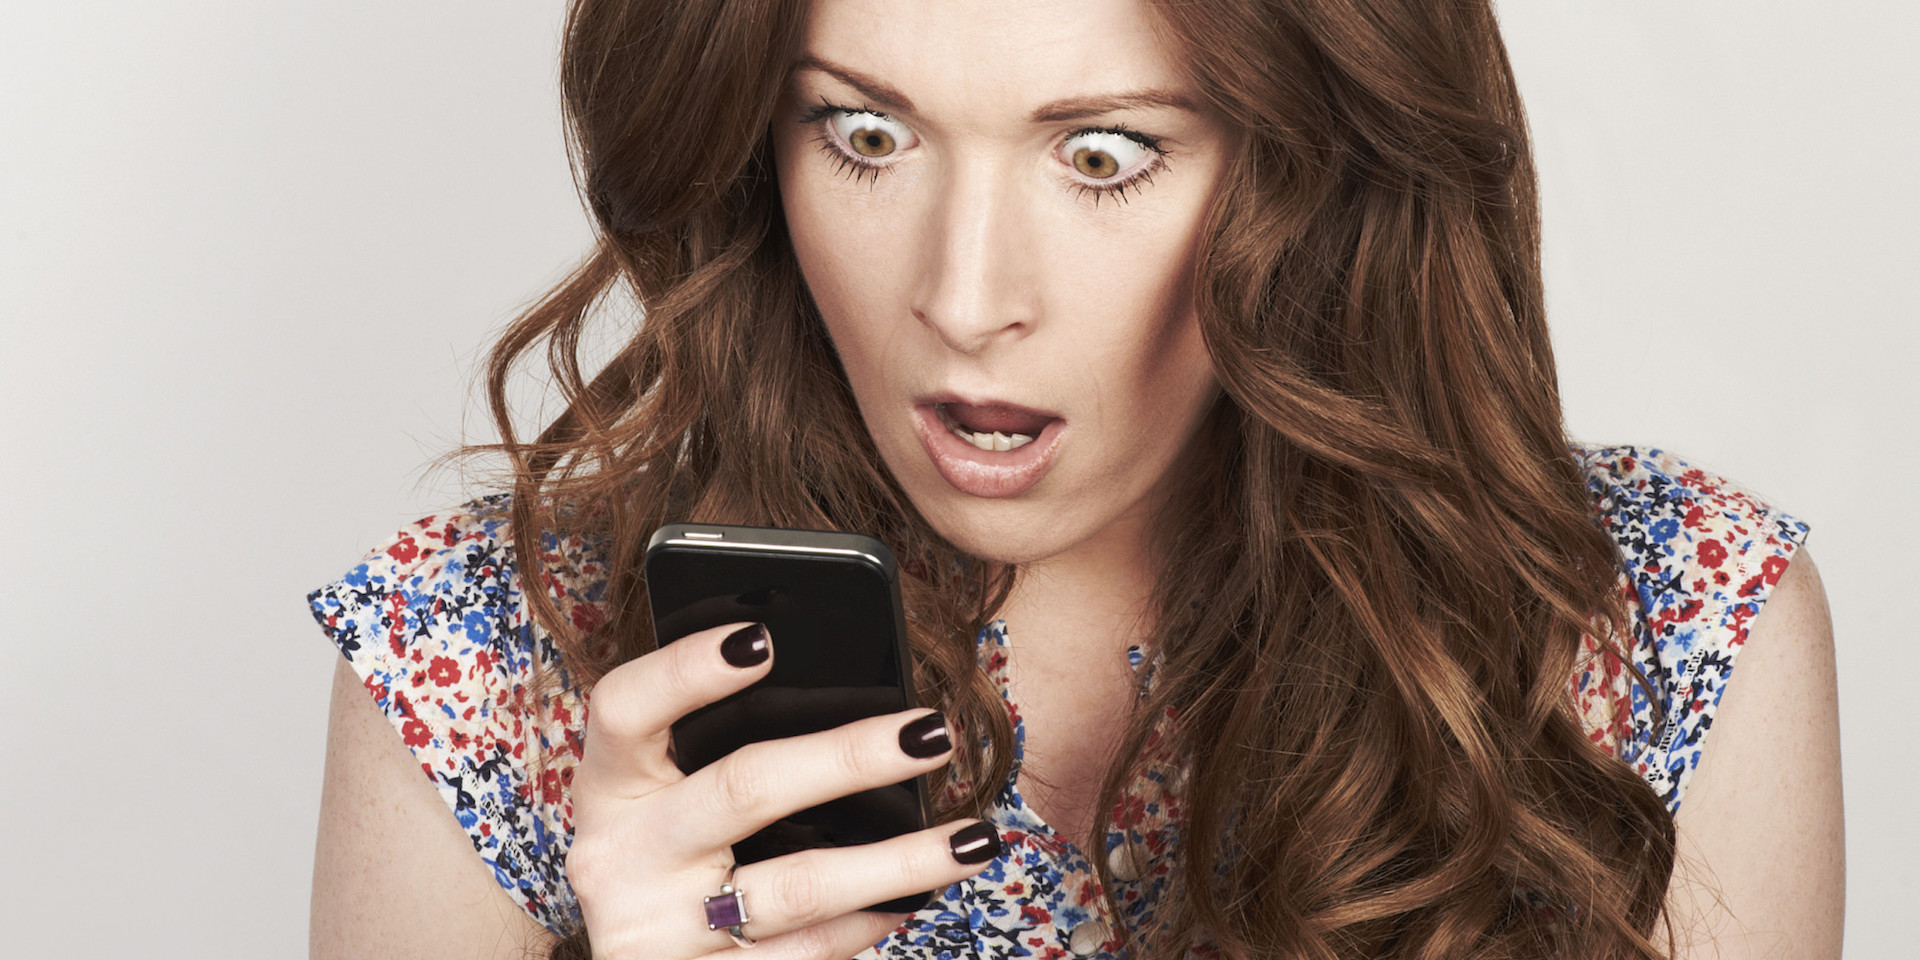smartphone: (644, 522, 948, 915)
